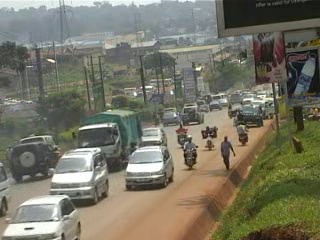Car: (47, 145, 111, 206), (1, 193, 81, 239), (4, 139, 65, 183), (124, 143, 176, 191), (140, 126, 169, 152), (180, 103, 205, 127), (158, 109, 180, 127), (194, 97, 209, 115), (205, 98, 221, 112), (240, 91, 257, 104), (218, 97, 229, 106)
Motorcycle: (180, 141, 199, 172), (174, 127, 190, 149), (225, 105, 235, 119)
